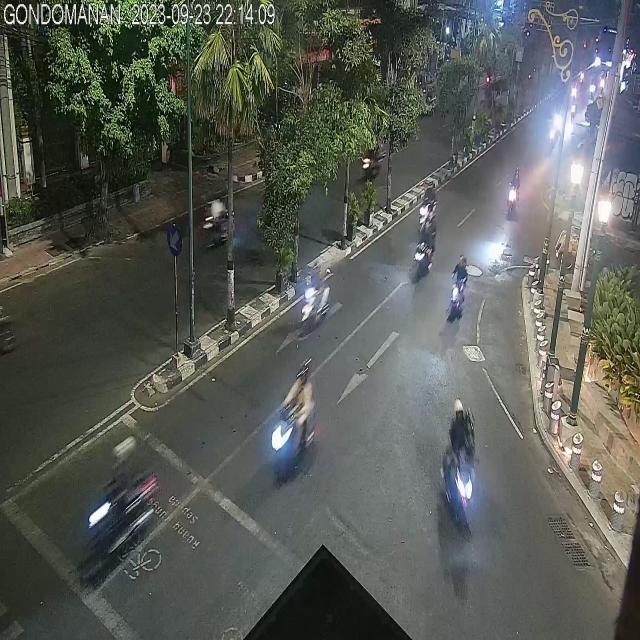motorcycle: (80, 442, 158, 566), (441, 397, 476, 528), (272, 360, 313, 471), (202, 186, 234, 256), (302, 259, 331, 326), (418, 170, 439, 238), (416, 210, 437, 277), (448, 256, 466, 316), (363, 130, 381, 176), (507, 167, 521, 221)
